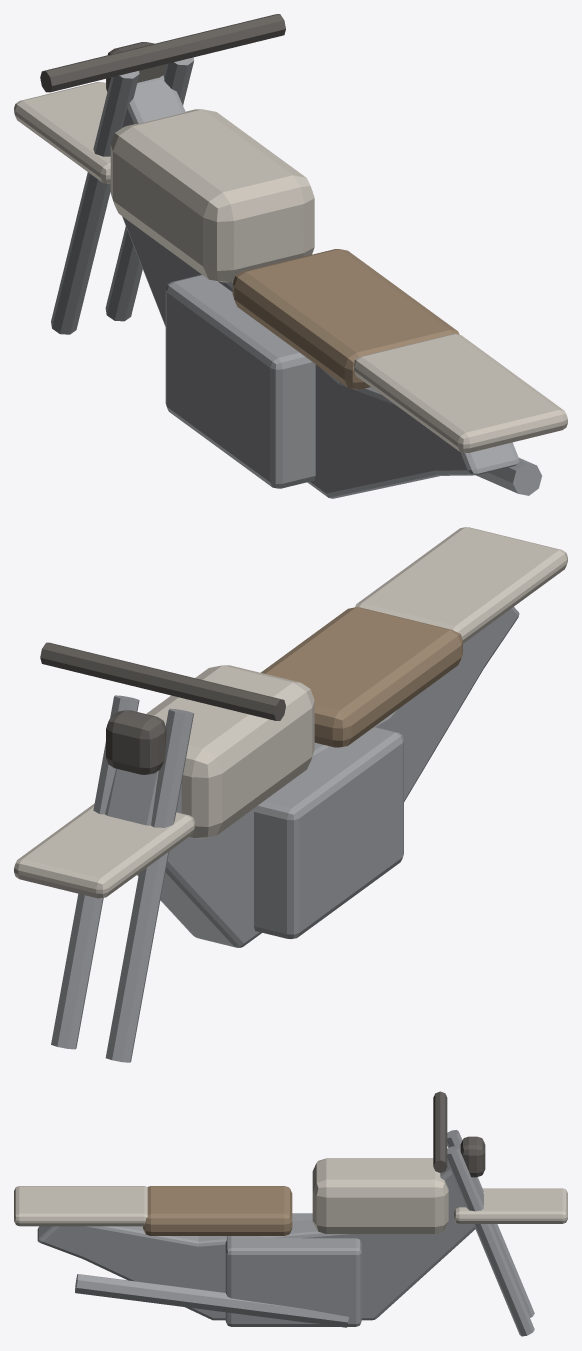
The model's file is motorcycle.glb.
3 views of the same model, one above another, from view 1: azimuth 30°, elevation 25°; view 2: azimuth 150°, elevation 25°; view 3: azimuth 270°, elevation 25° (orthographic). The views are drawn at different scales.
Parts seen in each view (by area): view 1: tank, engine, frame, saddle, rear_fender, fork_-1, bars, front_fender, fork_1, exhaust, headlamp; view 2: engine, frame, saddle, tank, rear_fender, front_fender, fork_-1, bars, fork_1, headlamp; view 3: frame, engine, tank, saddle, rear_fender, exhaust, front_fender, fork_1, bars, fork_-1, headlamp.
Part boxes in pixels (left/top/right/bottom): tank: left=110, top=109, right=314, bottom=282; engine: left=165, top=274, right=315, bottom=488; frame: left=109, top=75, right=519, bottom=498; saddle: left=232, top=249, right=459, bottom=389; rear_fender: left=353, top=334, right=567, bottom=452; fork_-1: left=51, top=71, right=139, bottom=334; bars: left=40, top=14, right=285, bottom=92; front_fender: left=14, top=82, right=110, bottom=183; fork_1: left=105, top=57, right=194, bottom=321; exhaust: left=476, top=458, right=541, bottom=495; headlamp: left=106, top=42, right=165, bottom=91; engine: left=254, top=726, right=403, bottom=939; frame: left=105, top=607, right=519, bottom=947; saddle: left=261, top=607, right=462, bottom=747; tank: left=146, top=665, right=314, bottom=838; rear_fender: left=355, top=527, right=567, bottom=643; front_fender: left=14, top=803, right=194, bottom=898; fork_-1: left=105, top=708, right=193, bottom=1062; bars: left=40, top=642, right=285, bottom=720; fork_1: left=51, top=695, right=139, bottom=1049; headlamp: left=106, top=710, right=166, bottom=774; frame: left=37, top=1162, right=483, bottom=1320; engine: left=225, top=1213, right=361, bottom=1326; tank: left=312, top=1158, right=448, bottom=1233; saddle: left=143, top=1186, right=292, bottom=1235; rear_fender: left=14, top=1186, right=147, bottom=1226; exhaust: left=75, top=1274, right=348, bottom=1327; front_fender: left=454, top=1188, right=567, bottom=1223; fork_1: left=447, top=1146, right=534, bottom=1336; bars: left=433, top=1091, right=447, bottom=1172; fork_-1: left=447, top=1130, right=534, bottom=1317; headlamp: left=460, top=1136, right=485, bottom=1177.
Bounding box in the file's own units: 0.6 × 0.8166 × 2.04.
